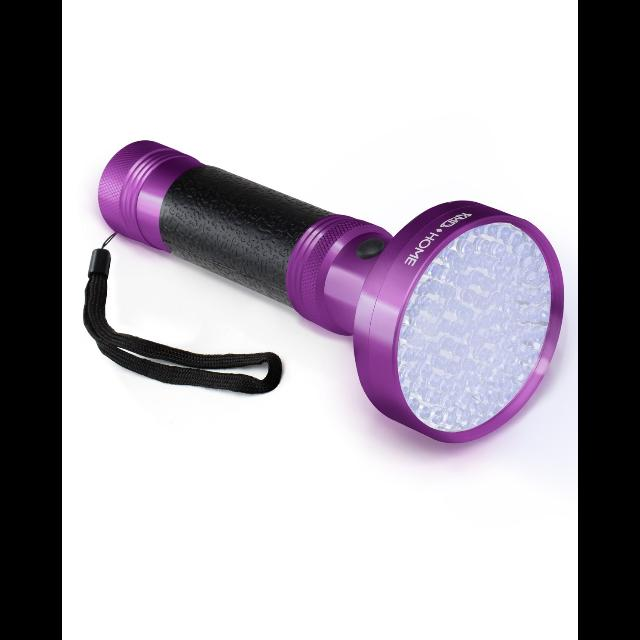Flashlight: (78, 133, 572, 450)
